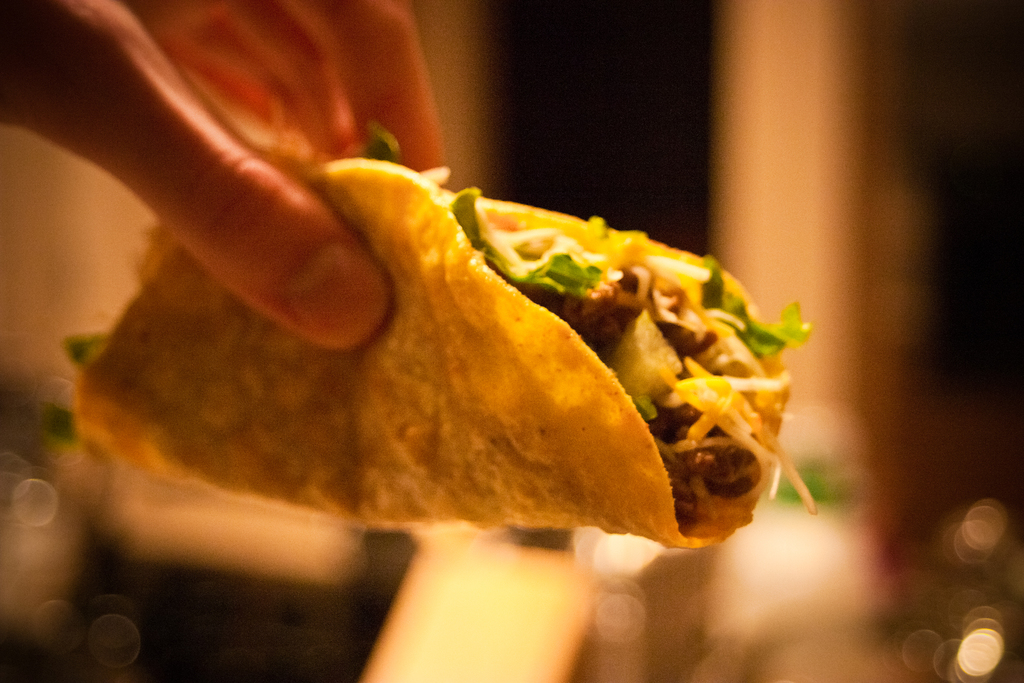taco: (45, 122, 816, 548)
